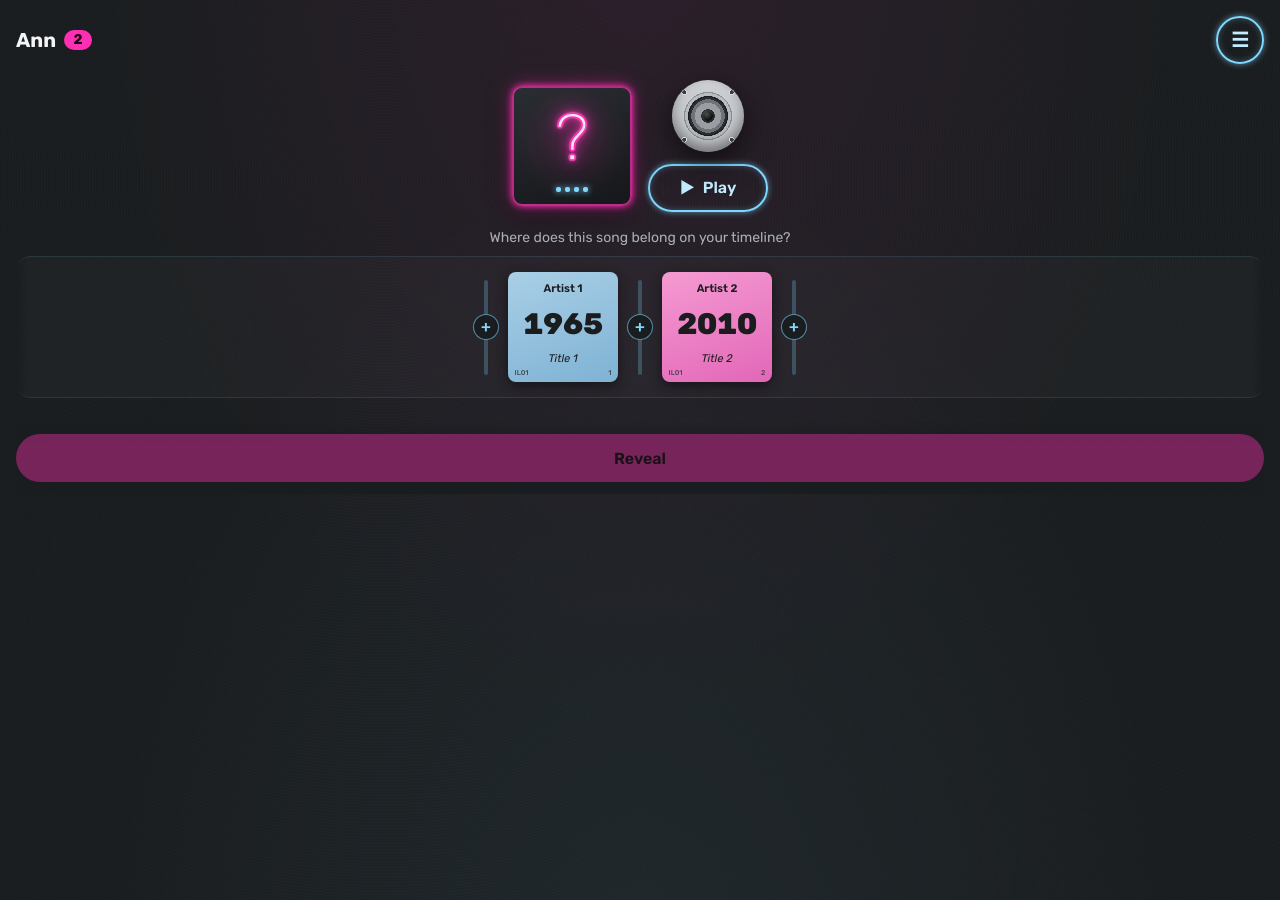
Test case: GameScreen (turn) › shows the current player, hidden card and slots; reveal disabled until a slot is chosen
The width and height of the screenshot is (1280, 900).
Expected: the element with test id "screen-turn" is shown, [0,0,1279,510]
Expected: the text with test id "current-player-name" reads "Ann", [16,28,56,52]
Click the 2nd button with test id "timeline-slot": (640, 327) [618,268,662,386]
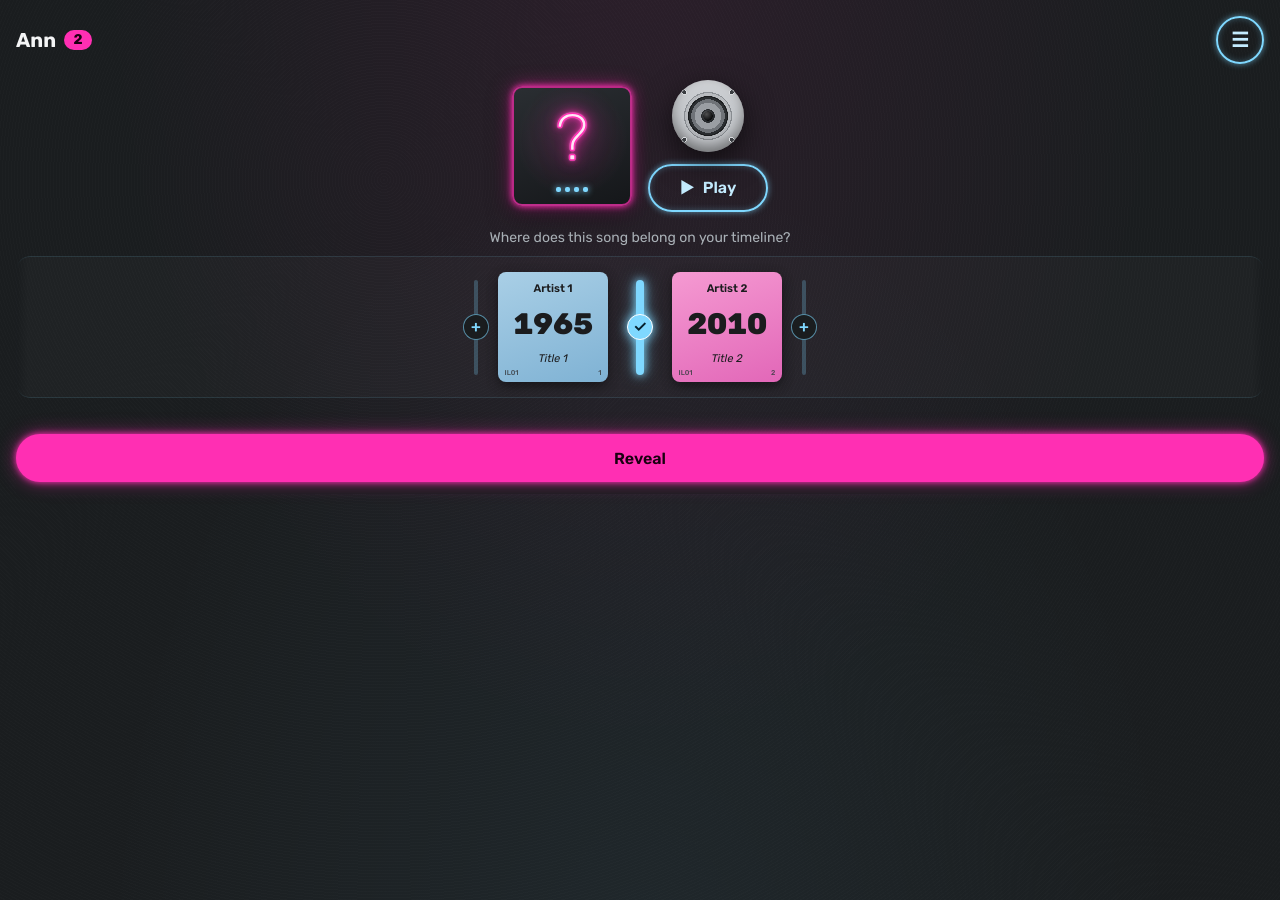
Expected: the button with test id "btn-reveal" is enabled, [16,434,1264,482]
